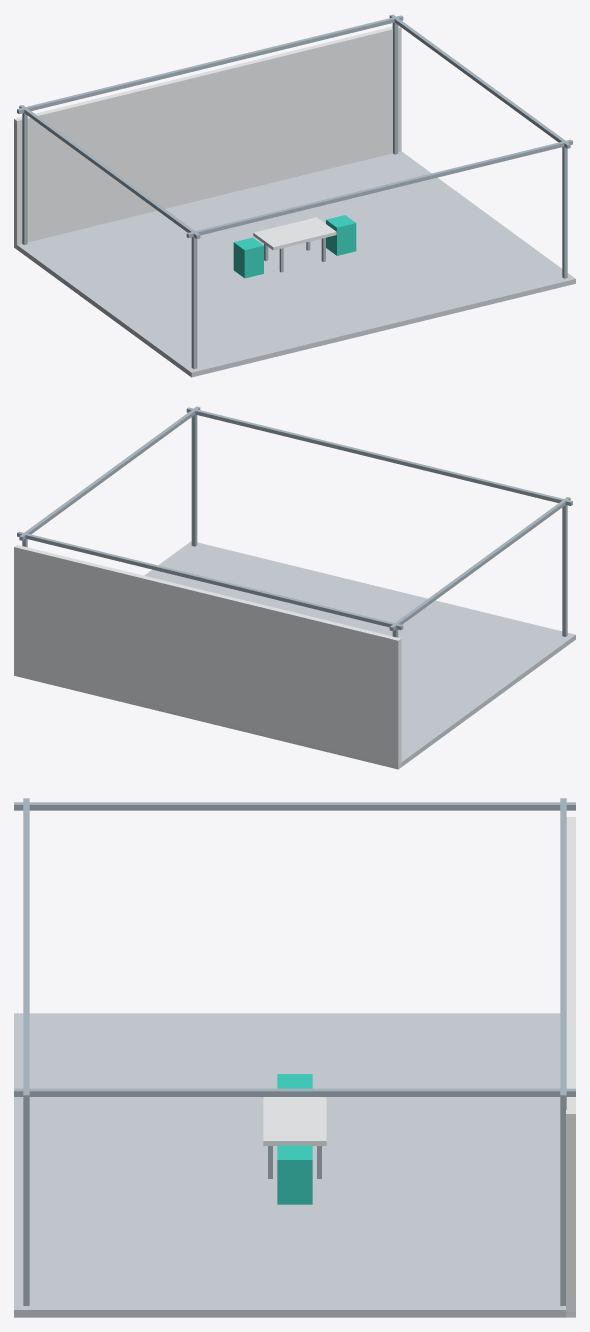
3 views of the same model, one above another, from view 1: azimuth 30°, elevation 25°; view 2: azimuth 150°, elevation 25°; view 3: azimuth 270°, elevation 25° (orthographic). The views are drawn at different scales.
Parts seen in each view (by area): view 1: Exhibition Booth Concept; view 2: Exhibition Booth Concept; view 3: Exhibition Booth Concept.
Boxes of the visible parts, x1,y1,x2,y2 form: Exhibition Booth Concept: (14, 14, 575, 377); Exhibition Booth Concept: (14, 406, 575, 769); Exhibition Booth Concept: (14, 798, 575, 1317).
Size of the model in its own units: 10 by 3.49 by 8.
